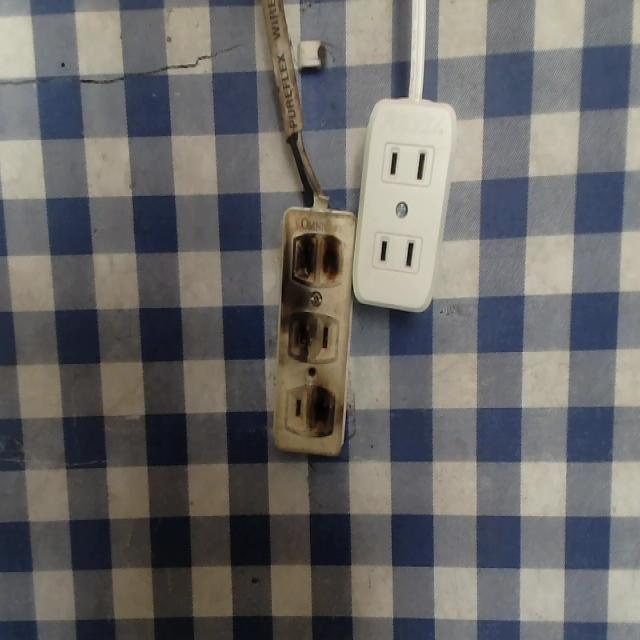-: (286, 229, 346, 288), (280, 310, 324, 366), (304, 382, 339, 442)
